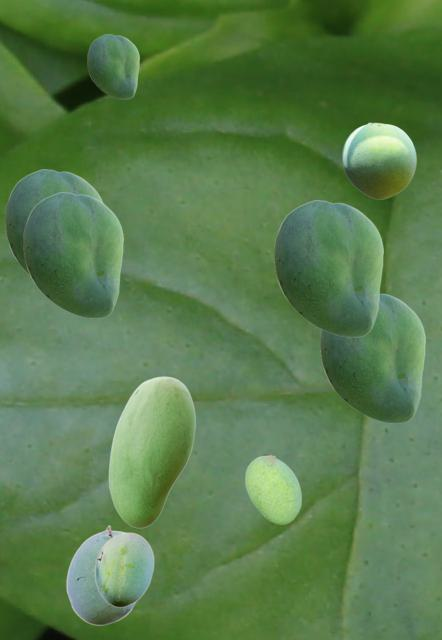green_mango: (274, 200, 382, 336), (320, 293, 424, 422), (108, 376, 194, 527), (23, 192, 122, 317), (5, 169, 103, 274), (66, 525, 136, 624), (342, 122, 415, 198), (94, 532, 153, 606), (245, 455, 300, 523), (87, 34, 138, 98)
